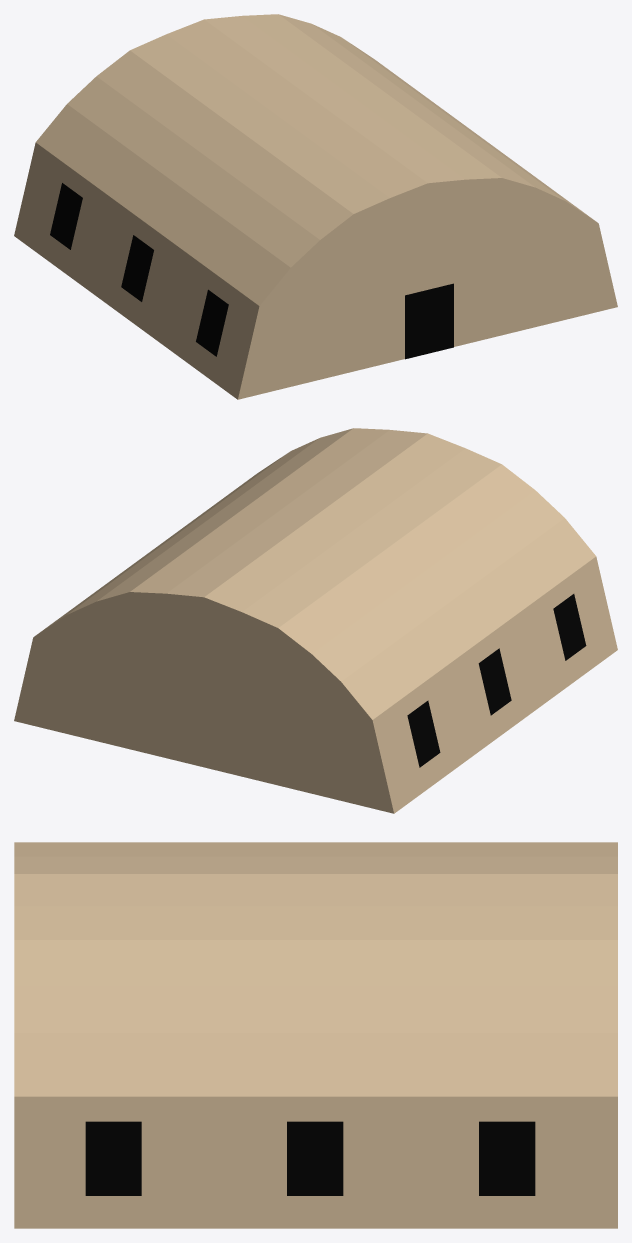
Rendered from Barracks.glb.
3 views of the same model, one above another, from view 1: azimuth 30°, elevation 25°; view 2: azimuth 150°, elevation 25°; view 3: azimuth 270°, elevation 25° (orthographic). The views are drawn at different scales.
Parts seen in each view (by area): view 1: Cylinder, Plane.006, Plane.003, Plane.005, Plane.004; view 2: Cylinder, Plane.005, Plane.003, Plane.004; view 3: Cylinder, Plane, Plane.001, Plane.002.
Part boxes in pixels (x1,y1,x2,y2): Cylinder: [14, 14, 617, 399]; Plane.006: [405, 283, 453, 359]; Plane.003: [196, 289, 228, 356]; Plane.005: [50, 183, 82, 249]; Plane.004: [121, 235, 153, 301]; Cylinder: [14, 428, 617, 813]; Plane.005: [407, 700, 440, 767]; Plane.003: [553, 594, 586, 660]; Plane.004: [478, 648, 511, 715]; Cylinder: [14, 842, 617, 1228]; Plane: [85, 1121, 141, 1195]; Plane.001: [287, 1121, 343, 1195]; Plane.002: [479, 1121, 535, 1195].
Size of the model in its own units: 30.89 by 13.23 by 31.52.
